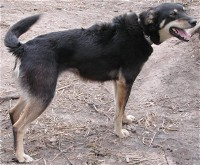dog: (3, 2, 199, 163)
